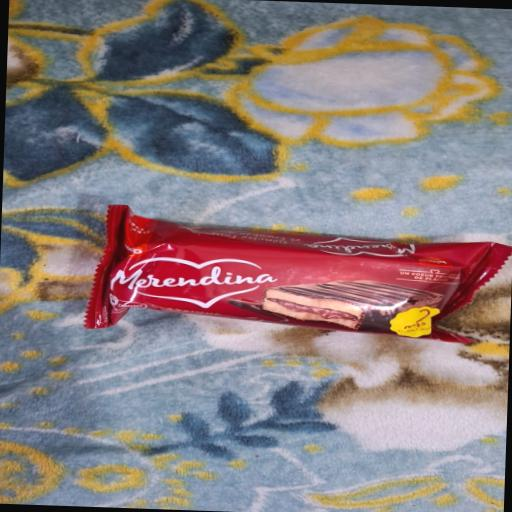merendina: (48, 186, 510, 370)
